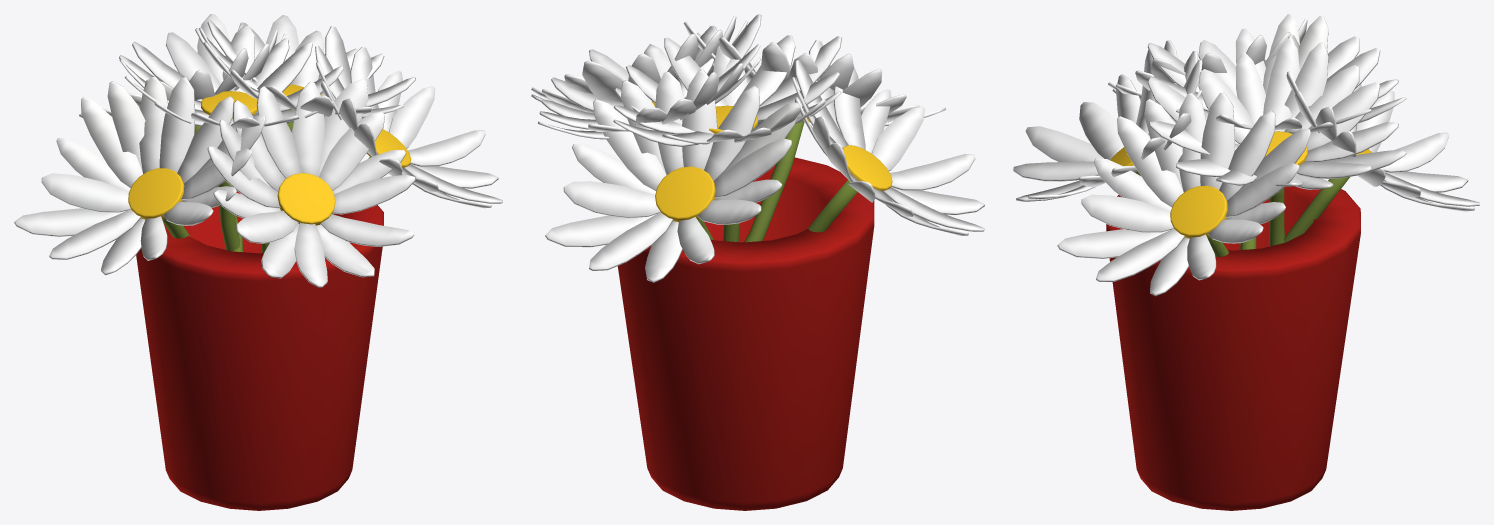
Rendered from Flower_Pot.FBX.
3 views of the same model, side by side, from view 1: azimuth 30°, elevation 25°; view 2: azimuth 150°, elevation 25°; view 3: azimuth 270°, elevation 25° (orthographic). The views are drawn at different scales.
Parts seen in each view (by area): view 1: Flower_Pot; view 2: Flower_Pot; view 3: Flower_Pot.
Boxes of the visible parts, box(x1,y1,x2,y2) form: Flower_Pot: box(14, 14, 502, 510); Flower_Pot: box(531, 14, 984, 510); Flower_Pot: box(1013, 14, 1479, 510).
Bounding box in the file's own units: 60.66 × 54.75 × 54.46.
1 material, 1 textured.
